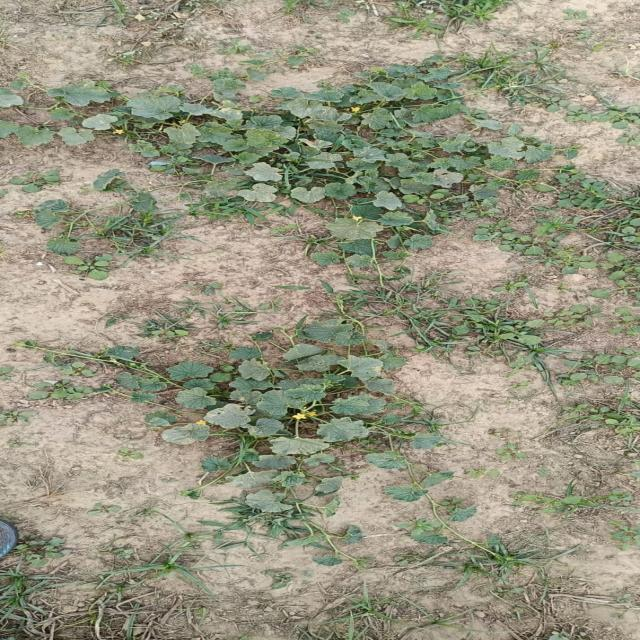plant: (59, 64, 553, 270), (92, 316, 446, 517)
